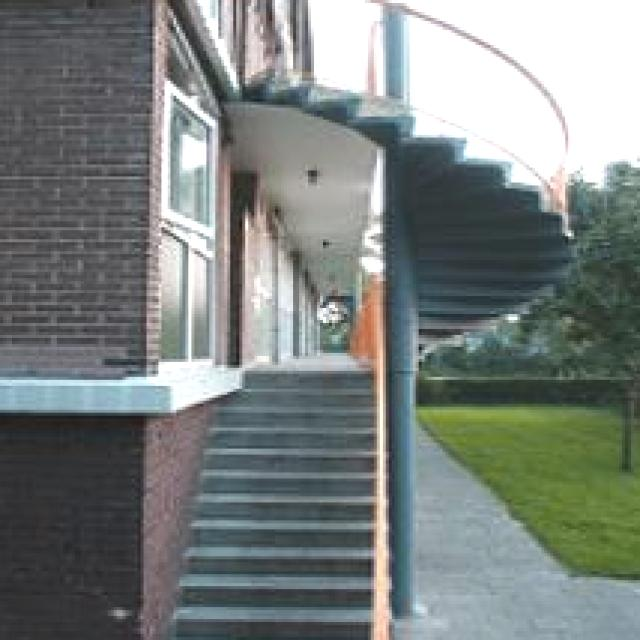upstair: (180, 432, 381, 623)
